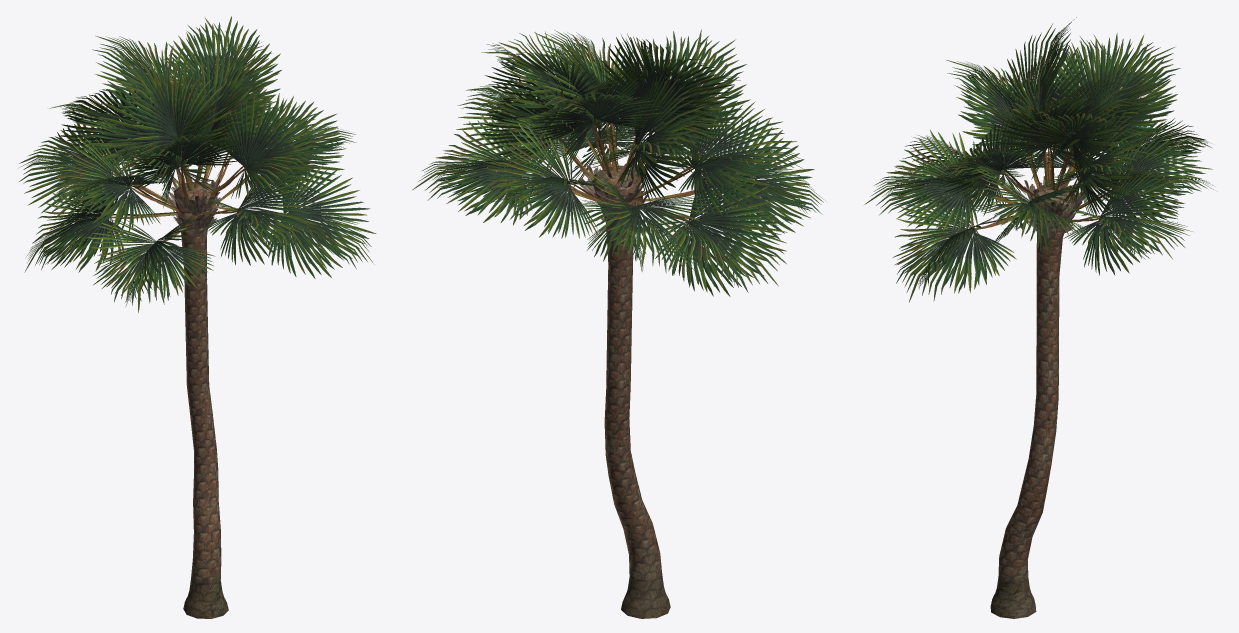
Rendered from MB_Palm_Florida_02.fbx.
3 renders of one model, left to right at view 1: azimuth 30°, elevation 25°; view 2: azimuth 150°, elevation 25°; view 3: azimuth 270°, elevation 25°, orthographic. The views are drawn at different scales.
Visible parts, largest first — view 1: MB_Palm_Florida_02_LOD0; view 2: MB_Palm_Florida_02_LOD0; view 3: MB_Palm_Florida_02_LOD0.
Part boxes in pixels (x1,y1,x2,y2): MB_Palm_Florida_02_LOD0: [19, 16, 376, 618]; MB_Palm_Florida_02_LOD0: [412, 29, 825, 618]; MB_Palm_Florida_02_LOD0: [864, 17, 1213, 618].
Size of what is drawn, in the model's own units: 586 by 976 by 567.
